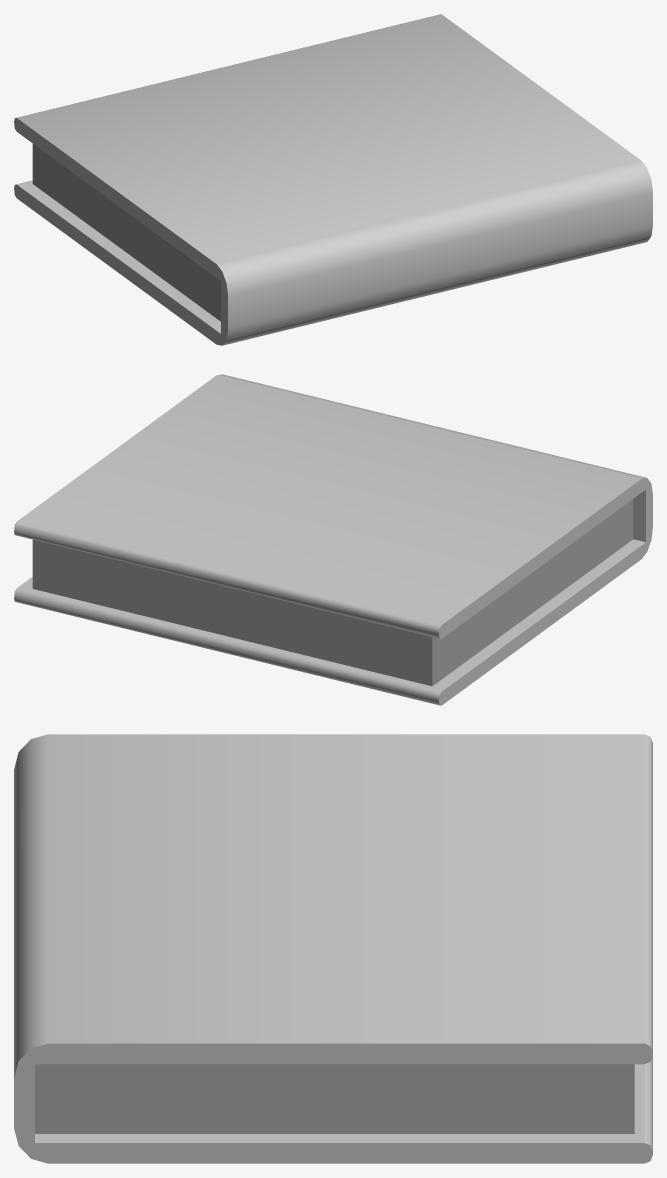
The model's file is BookUnity.fbx.
3 renders of one model, top to bottom at view 1: azimuth 30°, elevation 25°; view 2: azimuth 150°, elevation 25°; view 3: azimuth 270°, elevation 25°, orthographic. The views are drawn at different scales.
Visible parts, largest first — view 1: Куб.003, Куб.002; view 2: Куб.003, Куб.002; view 3: Куб.003, Куб.002.
Boxes of the visible parts, left/top/right/bottom form: Куб.003: left=14, top=14, right=652, bottom=345; Куб.002: left=32, top=144, right=220, bottom=321; Куб.003: left=14, top=374, right=652, bottom=705; Куб.002: left=32, top=499, right=633, bottom=686; Куб.003: left=14, top=734, right=652, bottom=1163; Куб.002: left=35, top=1064, right=634, bottom=1133.
Size of the model in its own units: 109 by 19.76 by 95.32.
